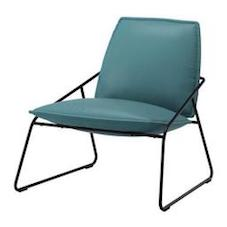chair: (3, 5, 218, 215)
